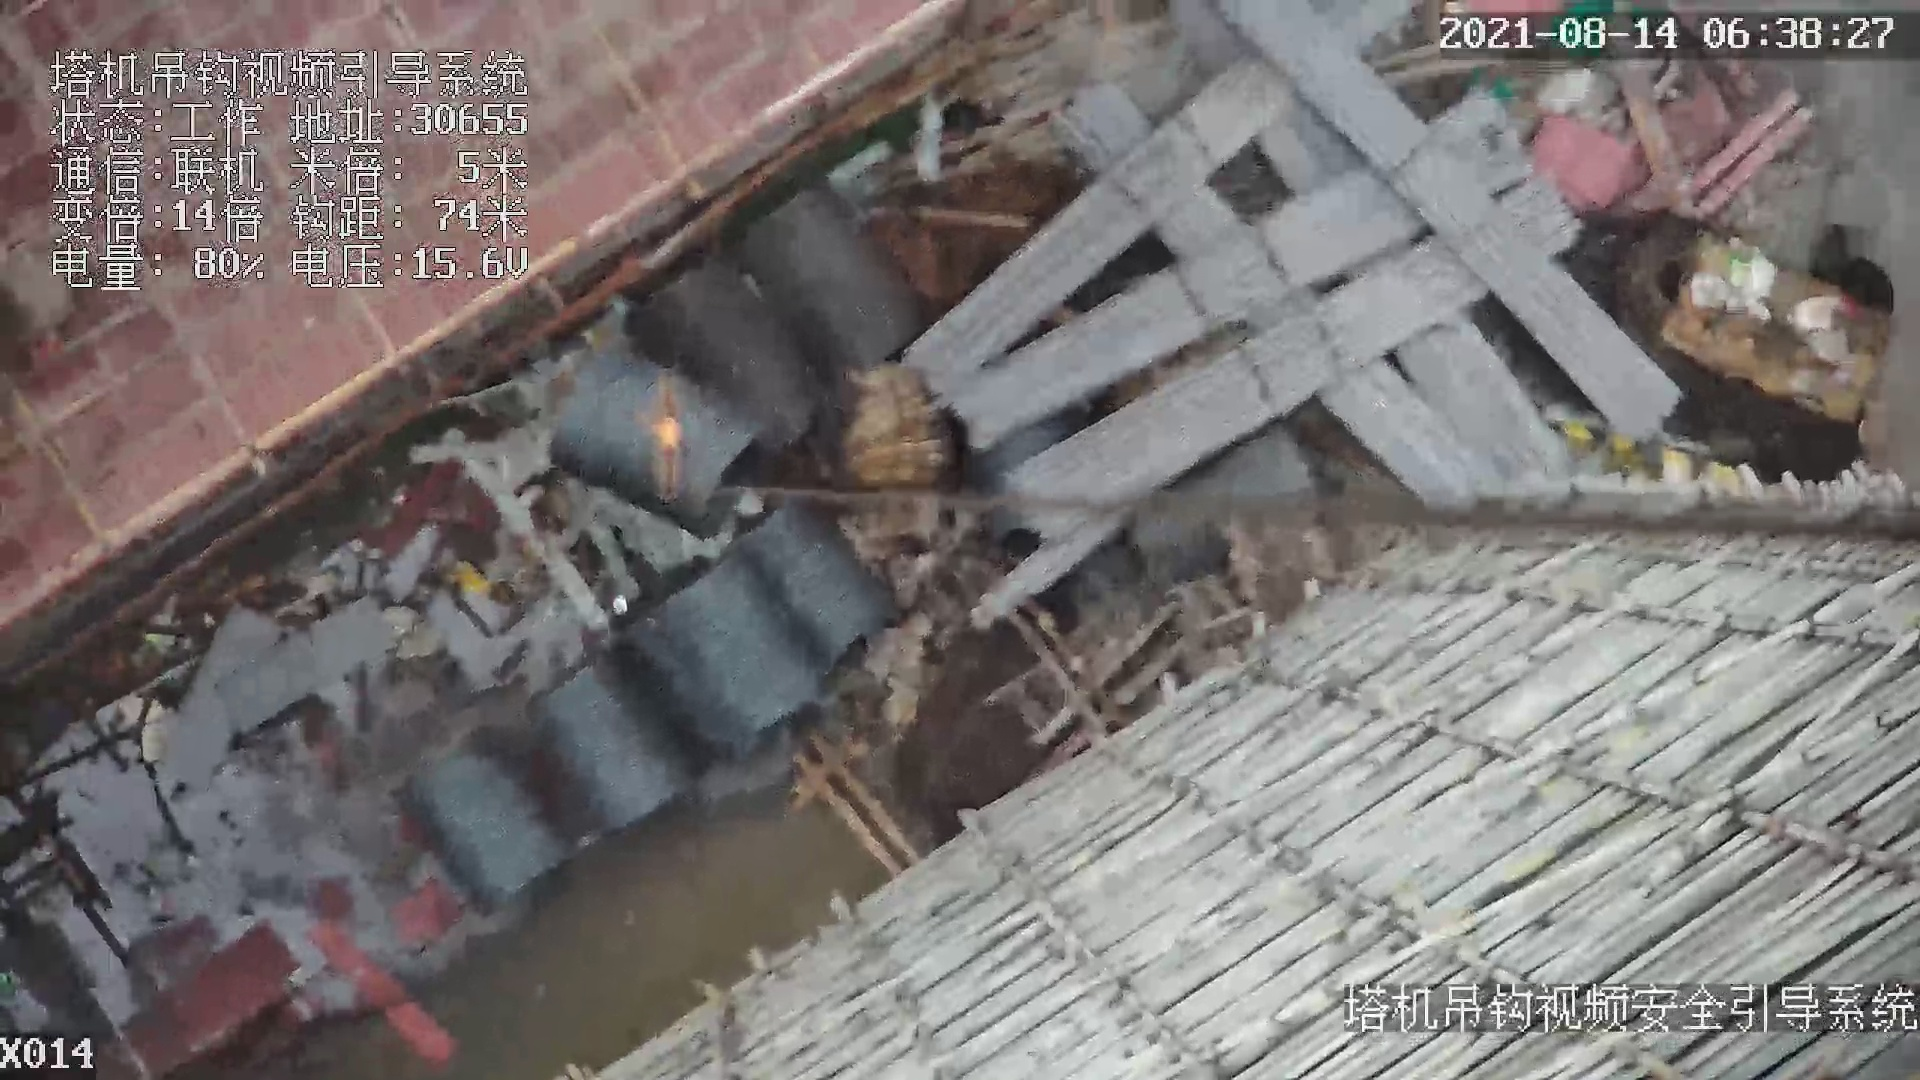hook: (641, 367, 692, 487)
